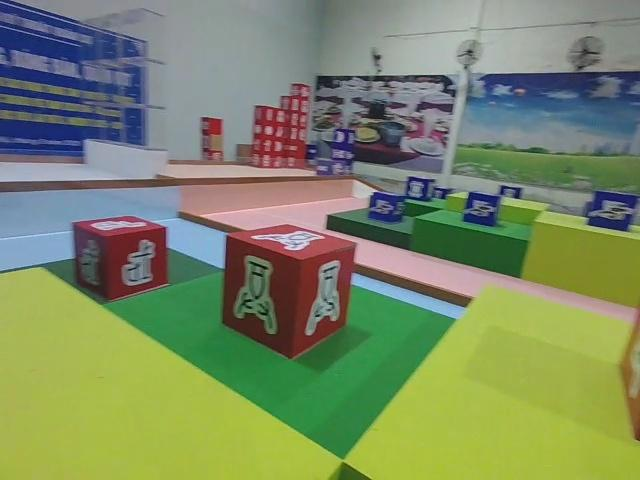R2 Real: (221, 222, 358, 359), (71, 212, 169, 302)
